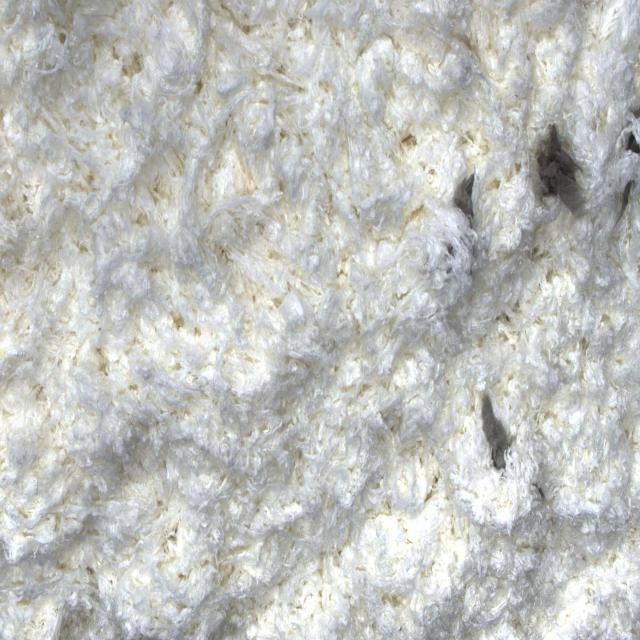dust: (517, 120, 604, 217), (477, 392, 523, 479), (450, 167, 480, 231), (614, 111, 640, 175), (443, 237, 478, 282), (616, 183, 633, 229)
